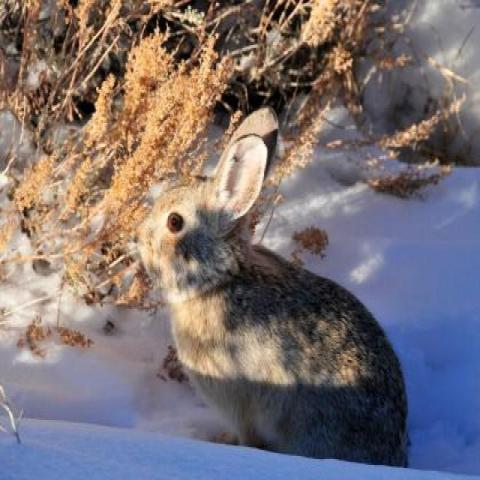small_animal: (132, 105, 412, 468)
